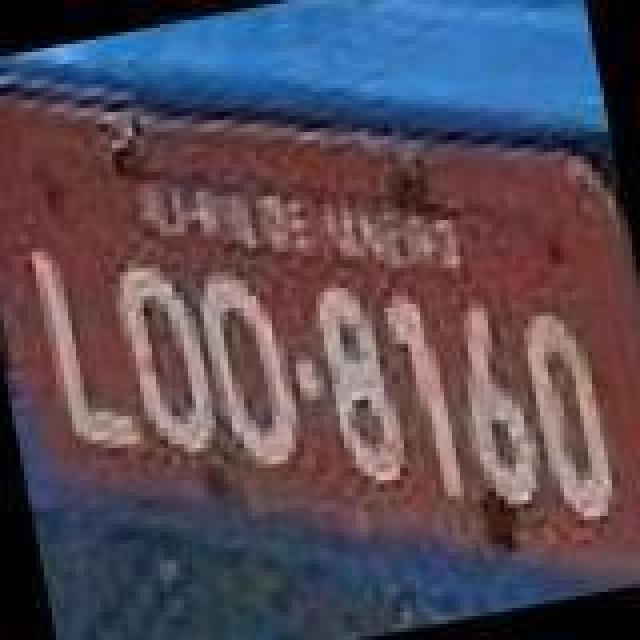1: (378, 286, 470, 506)
6: (440, 298, 552, 518)
8: (306, 276, 414, 492)
L: (24, 236, 144, 468)
O: (188, 260, 308, 476), (512, 302, 624, 530), (110, 254, 226, 466)
